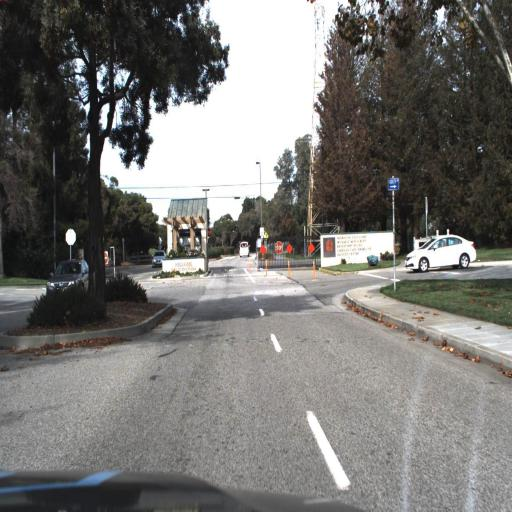car: (403, 231, 478, 276), (41, 257, 96, 309), (150, 250, 166, 271), (239, 237, 251, 258)
